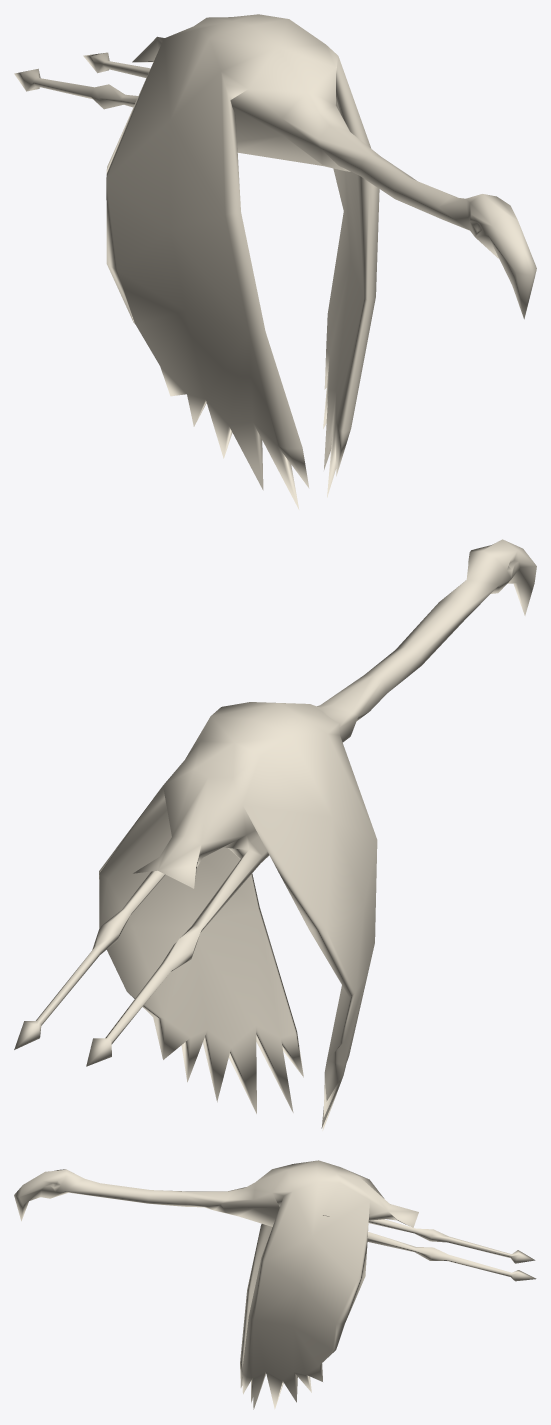
Rendered from flamingo2.glb.
3 views of the same model, one above another, from view 1: azimuth 30°, elevation 25°; view 2: azimuth 150°, elevation 25°; view 3: azimuth 270°, elevation 25° (orthographic). The views are drawn at different scales.
Visible parts, largest first — view 1: pink; view 2: pink; view 3: pink.
Boxes of the visible parts, x1,y1,x2,y2 form: pink: (14,14,536,509); pink: (14,539,536,1130); pink: (14,1160,536,1409).
Size of the model in its own units: 52.2 by 89.1 by 177.
